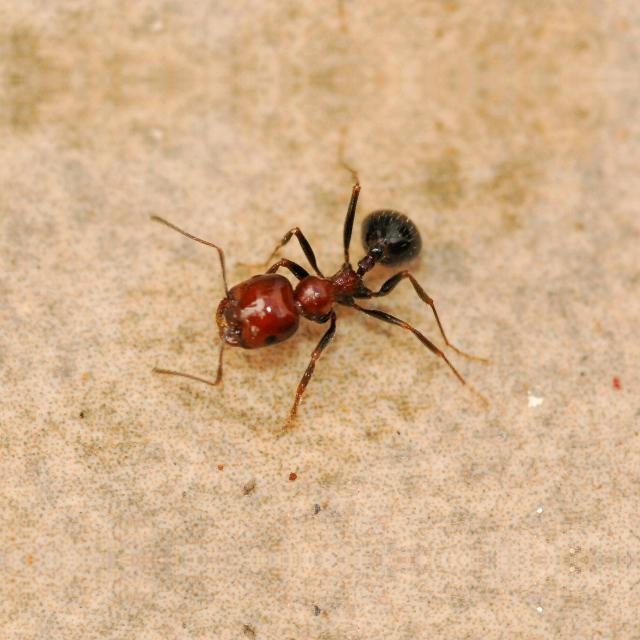Messor: (206, 189, 438, 381)
